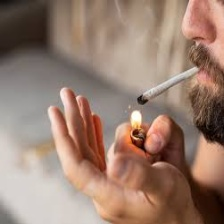fire: (130, 108, 142, 131)
